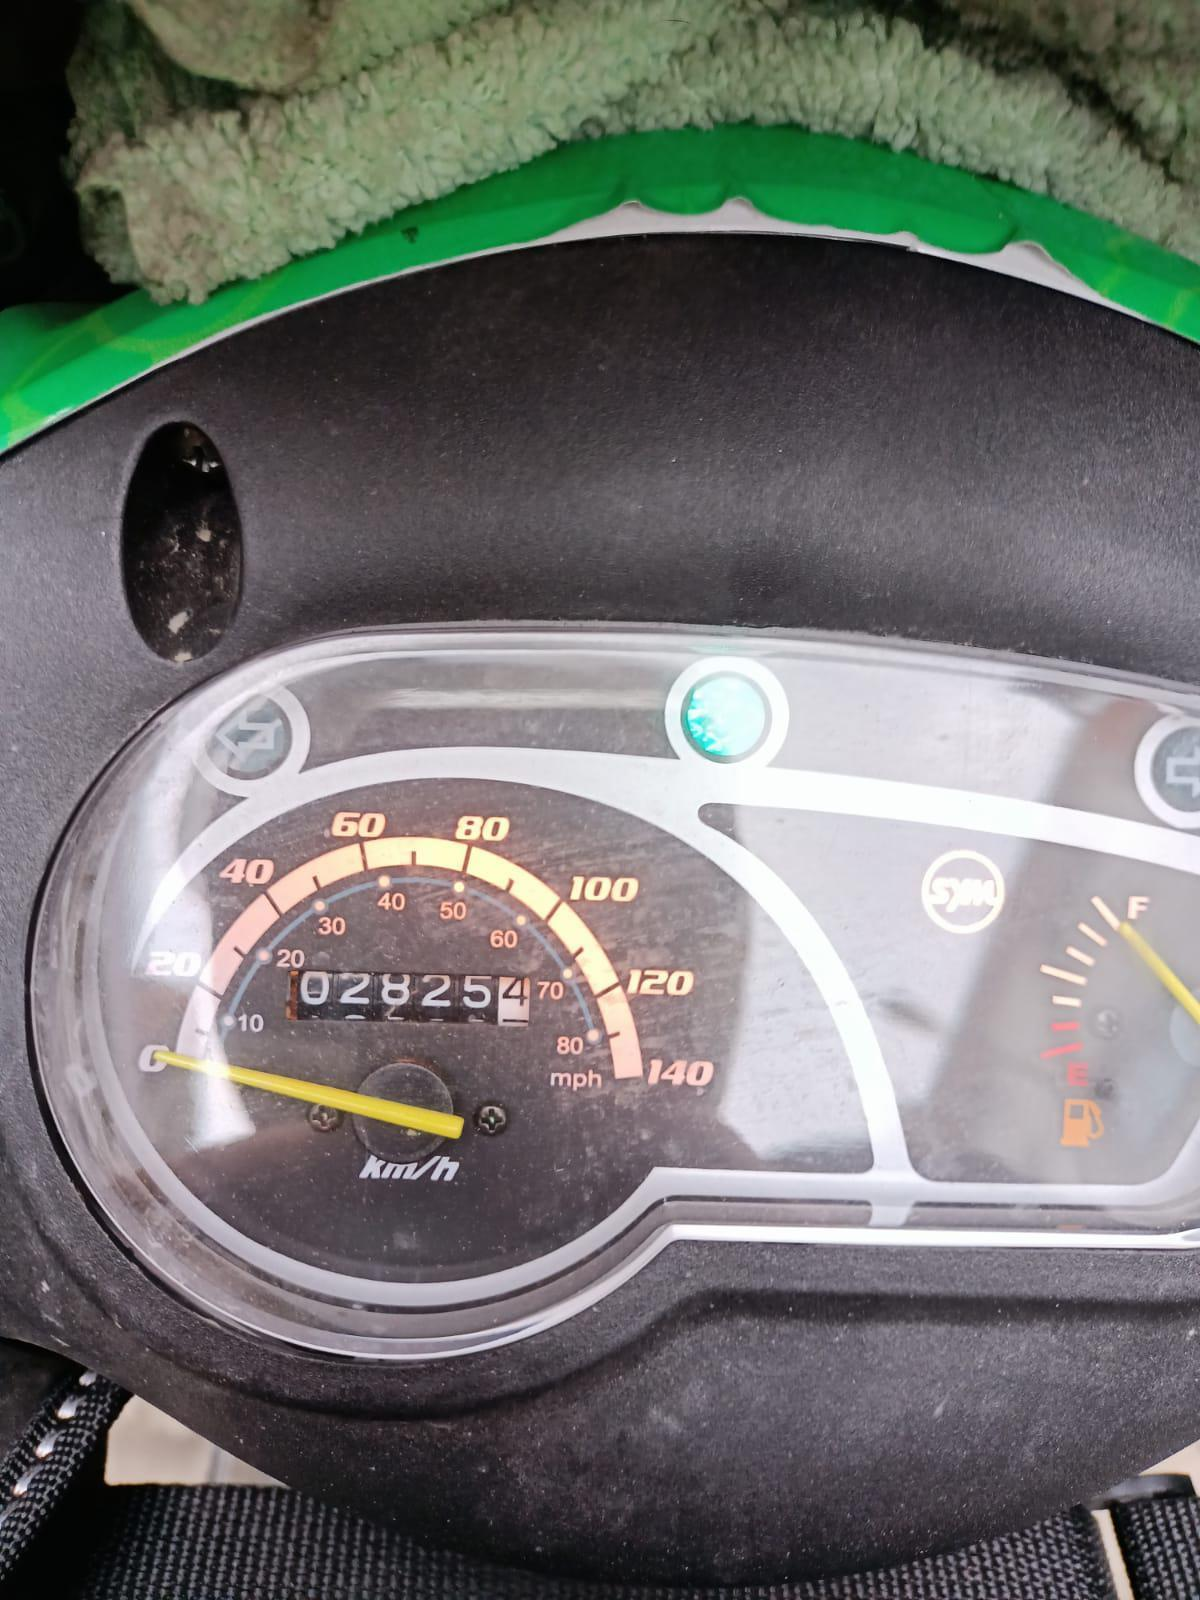0: (297, 969, 329, 1010)
2: (418, 974, 454, 1010), (337, 970, 371, 1008)
4: (503, 975, 529, 1012)
5: (463, 973, 492, 1012)
8: (379, 971, 413, 1010)
odometer: (282, 968, 534, 1032)
